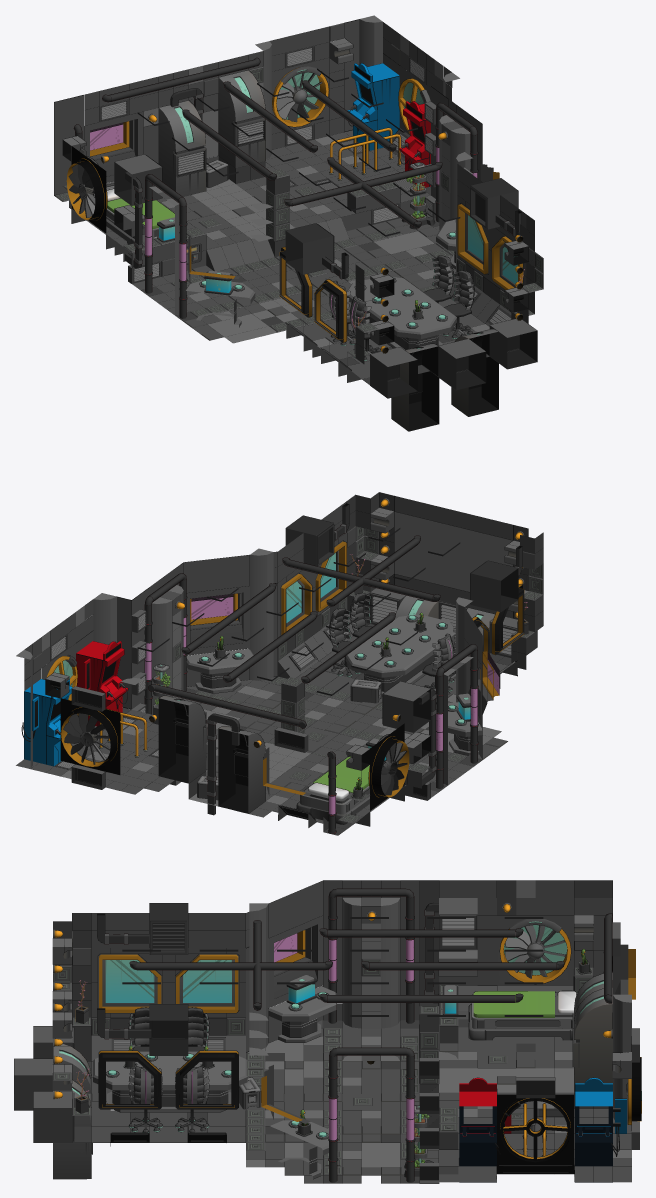
Rendered from CyberpunkOffice.glb.
3 renders of one model, top to bottom at view 1: azimuth 30°, elevation 25°; view 2: azimuth 150°, elevation 25°; view 3: azimuth 270°, elevation 25°, orthographic. The views are drawn at different scales.
Visible parts, largest first — view 1: Ventilation1.010, Ventilation1.011, ArcadeBlue.004, Ventilation1.012, WIndow4.006, WIndow2.009, Ventilation2.031, Ventilation2.032, Ventilation2.029, Ventilation1.013, WIndow3.009, Ventilation2.033 (+33 smaller); view 2: Tile11.440, Ventilation1.011, Ventilation1.010, WIndow4.008, ArcadeBlue.004, ArcadeRed.002, Bed.003, WIndow2.009, Ventilation2.029, Tile10.210, Ventilation2.002, Tile11.442 (+43 smaller); view 3: Bed.003, WIndow3.006, WIndow3.008, WIndow2.010, ArcadeBlue.004, WIndow1.004, Ventilation1.011, WIndow4.009, ArcadeRed.002, Column.069, Column.068, Ventilation2.032 (+69 smaller).
Boxes of the visible parts, x1,y1,x2,y2 form: Ventilation1.010: [158, 100, 206, 196]; Ventilation1.011: [218, 70, 265, 168]; ArcadeBlue.004: [347, 63, 399, 150]; Ventilation1.012: [391, 343, 439, 431]; WIndow4.006: [84, 111, 143, 182]; WIndow2.009: [272, 57, 329, 133]; Ventilation2.031: [438, 338, 486, 390]; Ventilation2.032: [489, 318, 537, 369]; Ventilation2.029: [285, 223, 334, 274]; Ventilation1.013: [451, 329, 498, 416]; WIndow3.009: [457, 195, 491, 282]; Ventilation2.033: [370, 347, 417, 398]; Tile11.440: [394, 511, 513, 592]; Ventilation1.011: [158, 695, 206, 783]; Ventilation1.010: [218, 726, 265, 813]; WIndow4.008: [186, 586, 249, 655]; ArcadeBlue.004: [21, 679, 72, 766]; ArcadeRed.002: [76, 641, 128, 726]; Bed.003: [296, 756, 369, 824]; WIndow2.009: [60, 698, 120, 774]; Ventilation2.029: [470, 560, 518, 612]; Tile10.210: [183, 554, 249, 592]; Ventilation2.002: [382, 681, 430, 732]; Tile11.442: [394, 495, 513, 540]; Bed.003: [468, 990, 577, 1040]; WIndow3.006: [91, 948, 168, 1017]; WIndow3.008: [168, 948, 245, 1017]; WIndow2.010: [497, 915, 574, 985]; ArcadeBlue.004: [575, 1077, 626, 1182]; WIndow1.004: [497, 1094, 574, 1164]; Ventilation1.011: [572, 987, 612, 1091]; WIndow4.009: [268, 915, 323, 1007]; ArcadeRed.002: [459, 1077, 511, 1182]; Column.069: [342, 898, 361, 1028]; Column.068: [381, 898, 400, 1028]; Ventilation2.032: [33, 1091, 74, 1142].
Size of the model in its own units: 12.2 by 5.51 by 16.26.
1 material, 1 textured.
